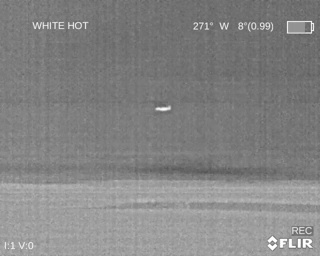AIRPLANE: (154, 104, 173, 113)
